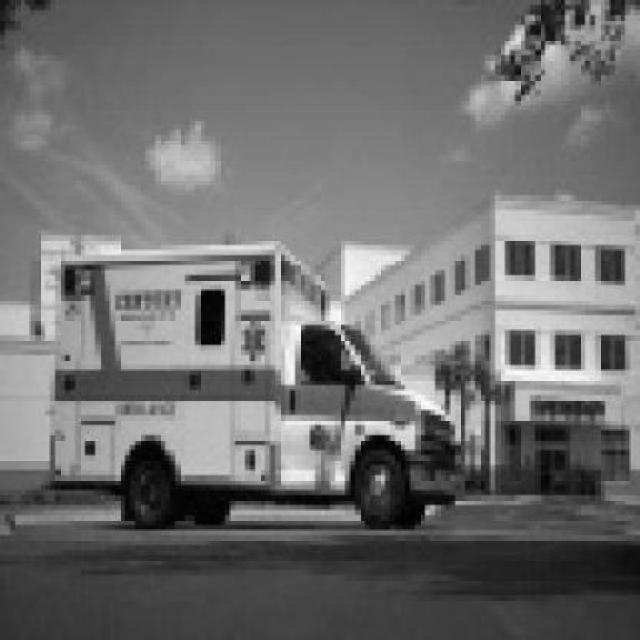Ambulance: (44, 239, 457, 531)
